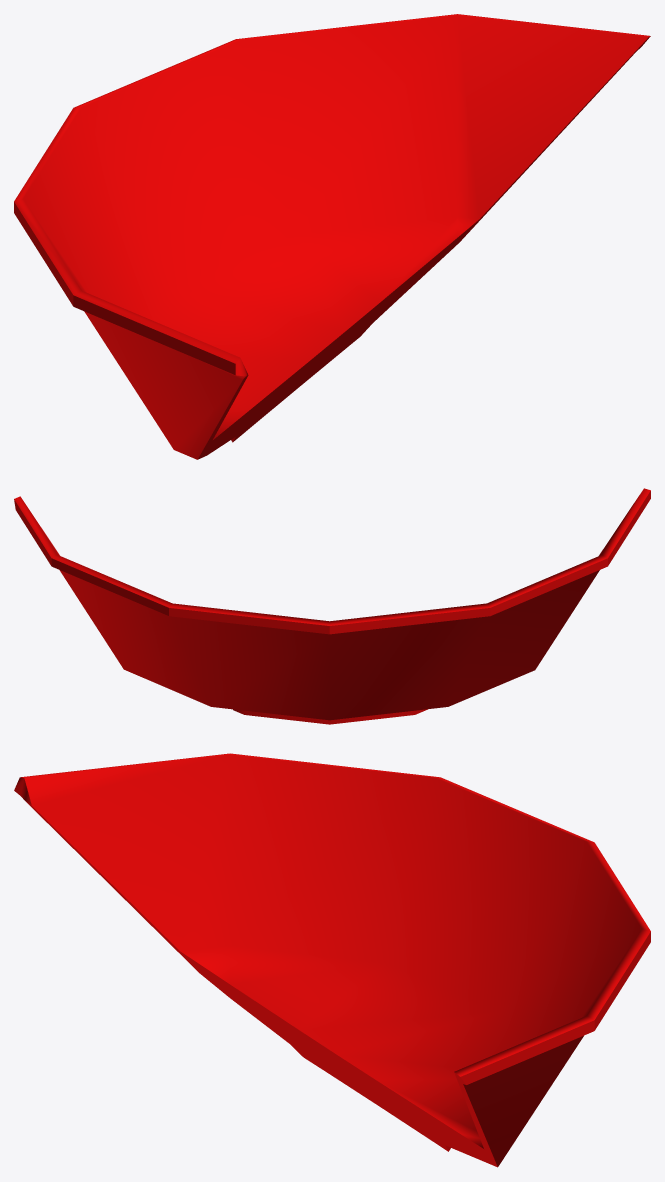
Rendered from BrokenBowl_1.fbx.
3 views of the same model, one above another, from view 1: azimuth 30°, elevation 25°; view 2: azimuth 150°, elevation 25°; view 3: azimuth 270°, elevation 25° (orthographic). The views are drawn at different scales.
Parts seen in each view (by area): view 1: BrokenBowl_1; view 2: BrokenBowl_1; view 3: BrokenBowl_1.
Part boxes in pixels (x1,y1,x2,y2): BrokenBowl_1: [14, 14, 650, 459]; BrokenBowl_1: [14, 488, 650, 724]; BrokenBowl_1: [14, 753, 650, 1167].
Size of the model in its own units: 121 by 37.57 by 101.
